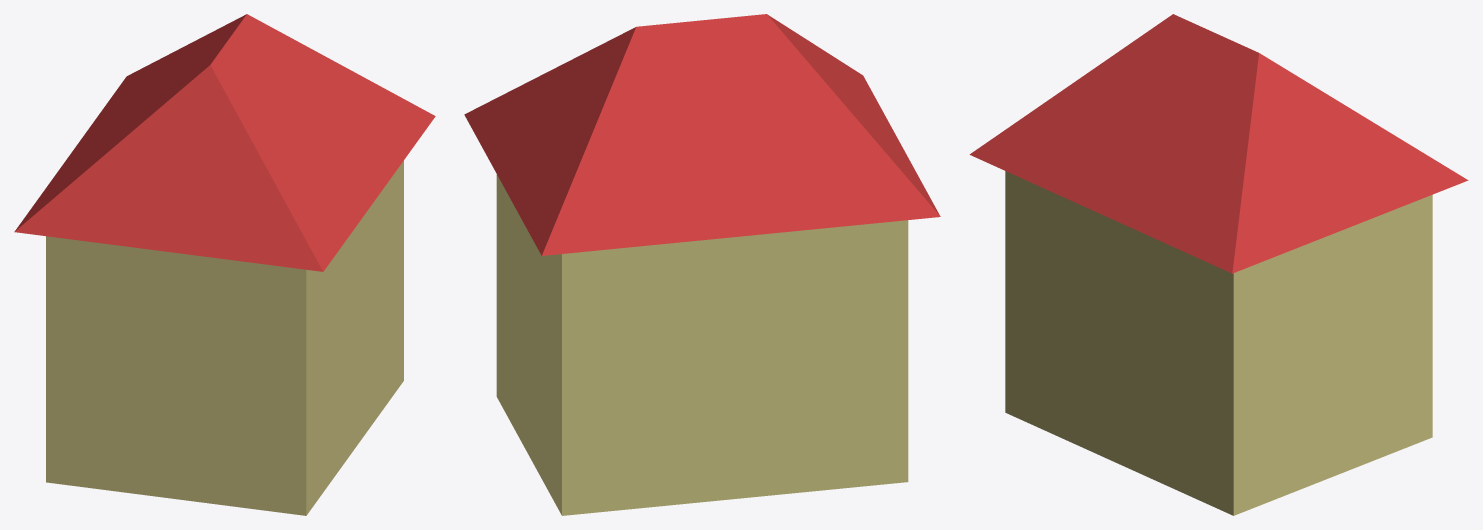
3 renders of one model, left to right at view 1: azimuth 30°, elevation 25°; view 2: azimuth 150°, elevation 25°; view 3: azimuth 270°, elevation 25°, orthographic. The views are drawn at different scales.
Visible parts, largest first — view 1: group_5, group_3, group_4; view 2: group_5, group_3, group_4; view 3: group_5, group_3, group_4.
Part boxes in pixels (x1,y1,x2,y2): group_5: (46,160,403,515); group_3: (14,14,414,271); group_4: (14,67,435,271); group_5: (496,174,908,515); group_3: (464,14,940,255); group_4: (542,76,940,255); group_5: (1005,171,1432,515); group_3: (971,14,1468,273); group_4: (969,133,1237,272).
Bounding box in the file's own units: 19.68 × 19.57 × 16.98.
